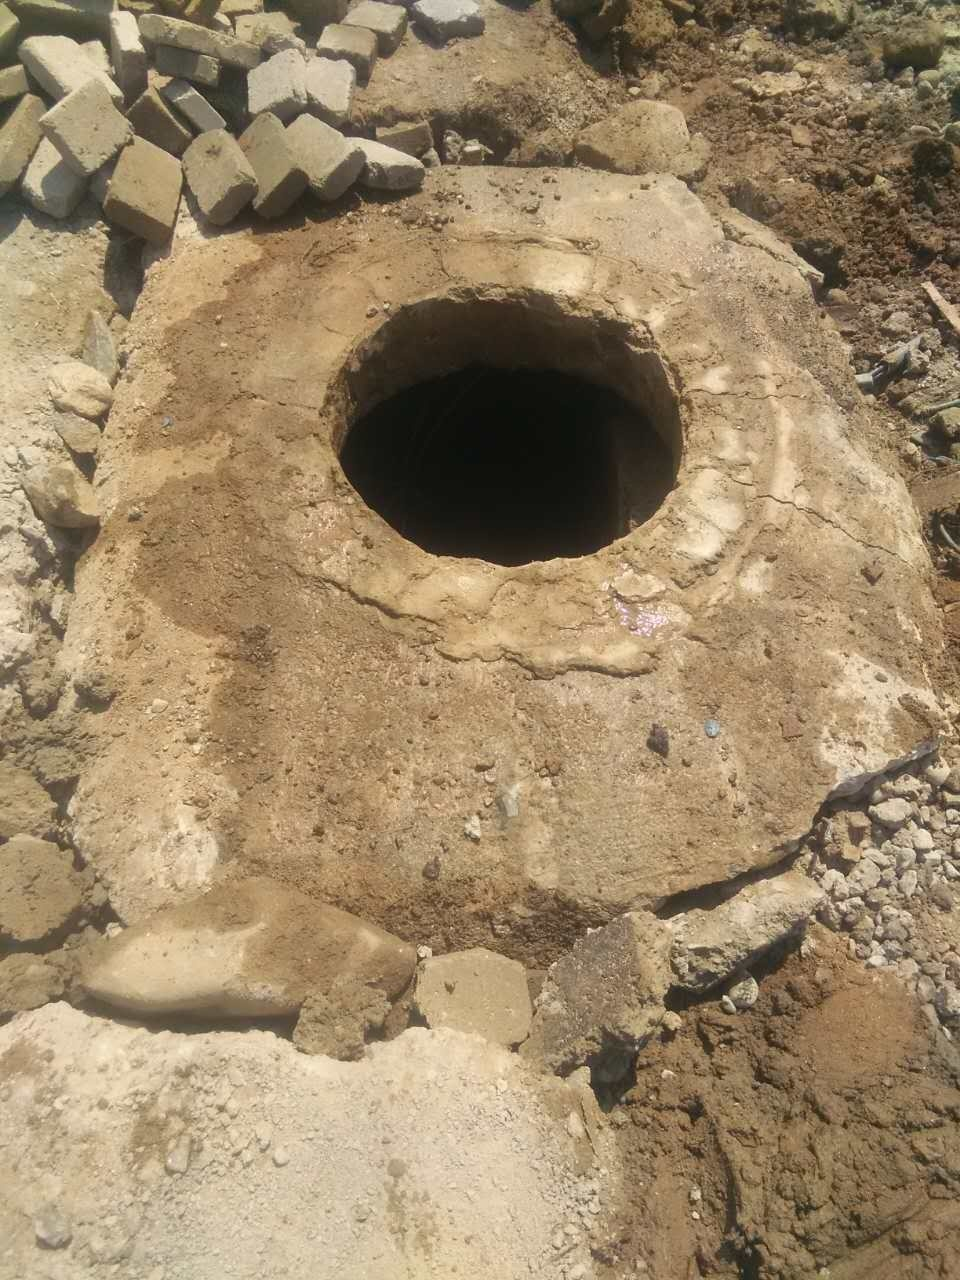lose: (322, 284, 696, 571)
